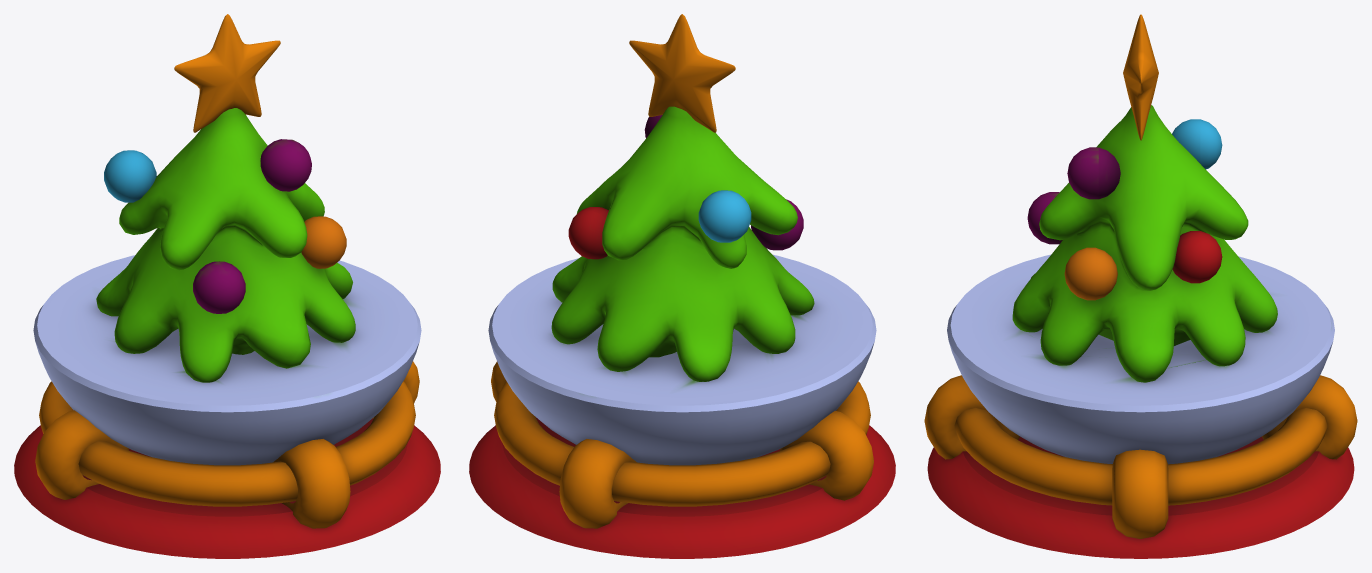
The model's file is qizi_14_1.FBX.
3 views of the same model, side by side, from view 1: azimuth 30°, elevation 25°; view 2: azimuth 150°, elevation 25°; view 3: azimuth 270°, elevation 25° (orthographic).
Parts seen in each view (by area): view 1: qizi_14_1; view 2: qizi_14_1; view 3: qizi_14_1.
Boxes of the visible parts, bbox=[...] form: qizi_14_1: bbox=[14, 14, 440, 558]; qizi_14_1: bbox=[469, 14, 895, 558]; qizi_14_1: bbox=[924, 14, 1357, 558].
Size of the model in its own units: 84.18 by 97.72 by 84.18.
1 material, 1 textured.
